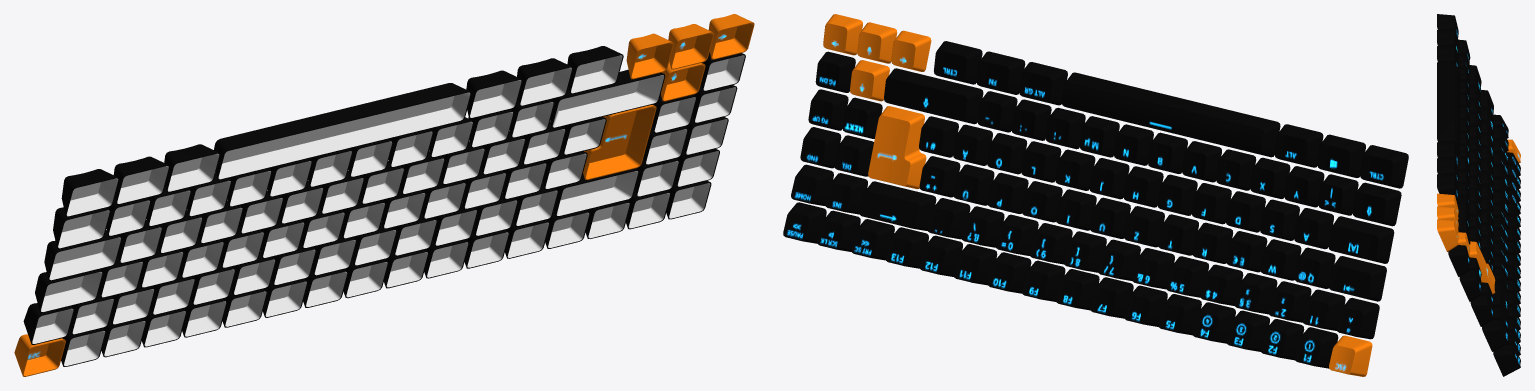
The model's file is keyboard_keys.glb.
The picture shows the model from 3 angles, left to right: view 1: azimuth 30°, elevation 25°; view 2: azimuth 150°, elevation 25°; view 3: azimuth 270°, elevation 25°; orthographic projection. The views are drawn at different scales.
Visible parts, largest first — view 1: Object_52, Object_53; view 2: Object_53; view 3: Object_53.
Boxes of the visible parts, left/top/right/bottom form: Object_52: left=32, top=55, right=744, bottom=366; Object_53: left=14, top=14, right=754, bottom=376; Object_53: left=783, top=14, right=1408, bottom=376; Object_53: left=1437, top=14, right=1520, bottom=376.
Size of the model in its own units: 140 by 44.7 by 22.91.
Materials: 2 (1 with a texture image).
